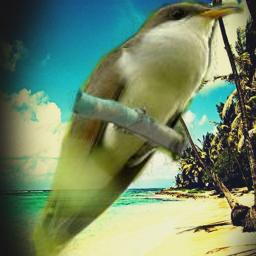Cuckoo: (28, 0, 244, 256)
